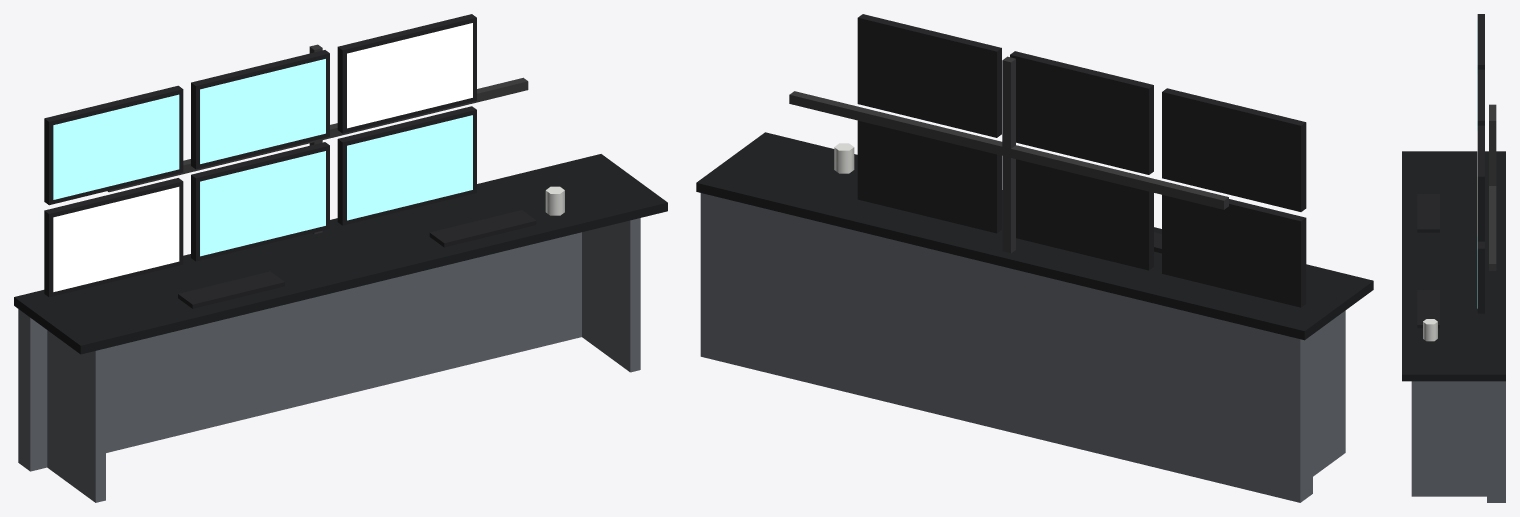
The model's file is ops_console.glb.
The picture shows the model from 3 angles, left to right: view 1: azimuth 30°, elevation 25°; view 2: azimuth 150°, elevation 25°; view 3: azimuth 270°, elevation 25°; orthographic projection. The views are drawn at different scales.
Visible parts, largest first — view 1: ops_console; view 2: ops_console; view 3: ops_console.
Part boxes in pixels (bbox=[...]): ops_console: bbox=[14, 14, 667, 502]; ops_console: bbox=[696, 14, 1373, 502]; ops_console: bbox=[1402, 14, 1505, 502].
Size of the model in its own units: 2.8 by 1.6 by 0.55.
1 material, 1 textured.
